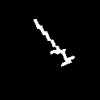double_crochet: (34, 19, 74, 65)
